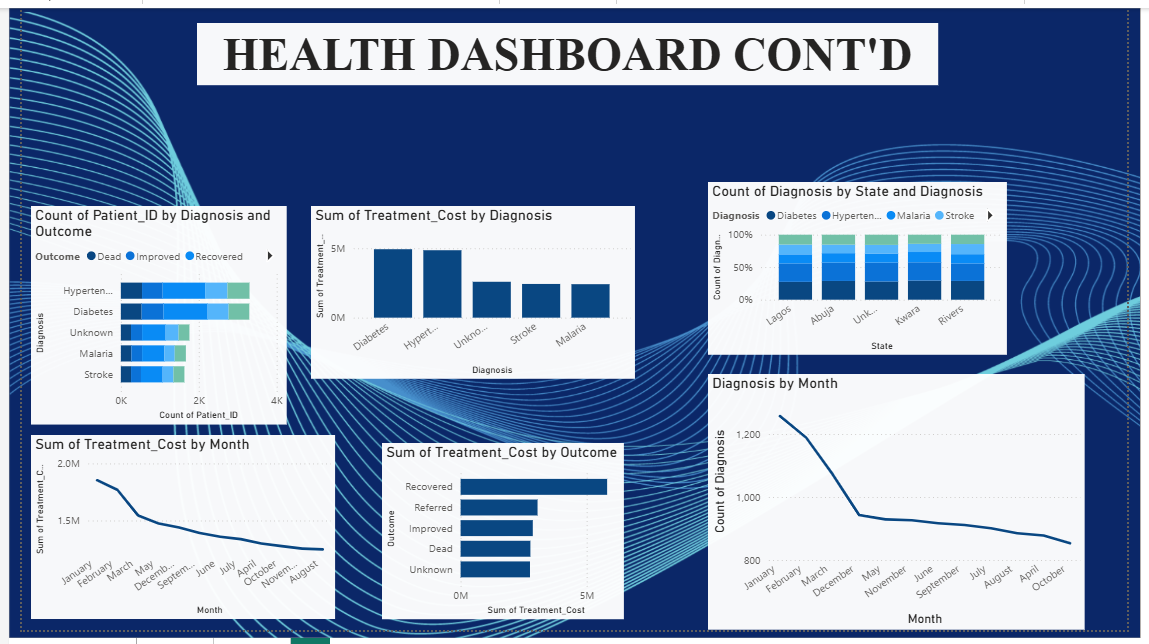

Layout of this report page (visuals, bound fields, positions):
{"tool":"powerbi","page":{"name":"Page 2","canvas":[1280,720],"ordinal":1},"visuals":[{"type":"barChart","fields":{"Category":["Cleaned Data.Outcome"],"Y":["Sum(Cleaned Data.Treatment_Cost)"]},"box":[10.6,0,280.5,203.4],"z":0},{"type":"barChart","fields":{"Category":["Cleaned Data.Diagnosis"],"Series":["Cleaned Data.Outcome"],"Y":["CountNonNull(Cleaned Data.Patient_ID)"]},"box":[10.6,228.6,296.4,252.5],"z":1},{"type":"hundredPercentStackedColumnChart","fields":{"Category":["Cleaned Data.State"],"Y":["CountNonNull(Cleaned Data.Diagnosis)"],"Series":["Cleaned Data.Diagnosis"]},"box":[362.9,29.2,345.6,199.4],"z":2},{"type":"clusteredColumnChart","fields":{"Category":["Cleaned Data.Diagnosis"],"Y":["Sum(Cleaned Data.Treatment_Cost)"]},"box":[380.1,264.5,374.8,200.7],"z":3},{"type":"lineChart","title":"Diagnosis by Month","fields":{"Category":["Cleaned Data.Month"],"Y":["CountNonNull(Cleaned Data.Diagnosis)"]},"box":[800.2,79.8,436,296.4],"z":4},{"type":"lineChart","fields":{"Category":["Cleaned Data.Month"],"Y":["Sum(Cleaned Data.Treatment_Cost)"]},"box":[10.6,494.5,352.2,212.7],"z":5}]}

Visuals, with their boxes in screenshot pixels (x1, y1, x2, y2), scaled from the page's 1280x720 canvas onto the 1149x644 screenshot:
barChart - Cleaned Data.Outcome x Sum(Cleaned Data.Treatment_Cost): (10, 0, 261, 182)
barChart - Cleaned Data.Diagnosis x Cleaned Data.Outcome: (10, 204, 276, 430)
hundredPercentStackedColumnChart - Cleaned Data.State x CountNonNull(Cleaned Data.Diagnosis): (326, 26, 636, 204)
clusteredColumnChart - Cleaned Data.Diagnosis x Sum(Cleaned Data.Treatment_Cost): (341, 237, 678, 416)
"Diagnosis by Month" lineChart: (718, 71, 1110, 336)
lineChart - Cleaned Data.Month x Sum(Cleaned Data.Treatment_Cost): (10, 442, 326, 633)
